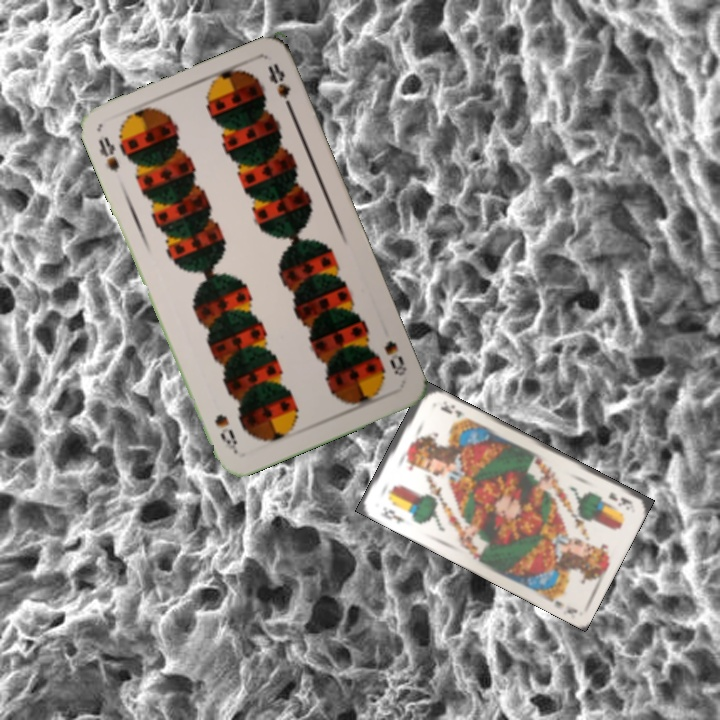EK: (376, 502, 407, 527), (605, 488, 635, 508)
S8: (380, 336, 410, 379), (94, 133, 122, 175)
